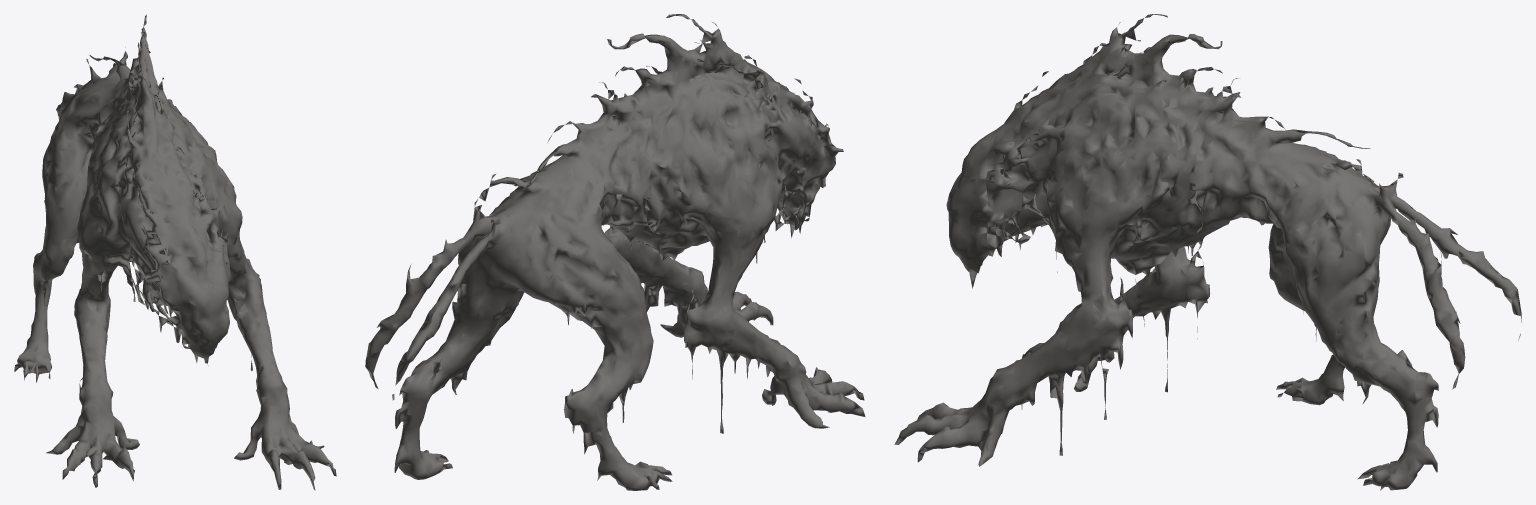
File: void_hound.glb
3 views of the same model, side by side, from view 1: azimuth 30°, elevation 25°; view 2: azimuth 150°, elevation 25°; view 3: azimuth 270°, elevation 25° (orthographic). The views are drawn at different scales.
Visible parts, largest first — view 1: reduced; view 2: reduced; view 3: reduced.
Part boxes in pixels (left/top/right/bottom): reduced: left=14, top=14, right=336, bottom=490; reduced: left=365, top=14, right=865, bottom=490; reduced: left=894, top=14, right=1521, bottom=490.
Size of the model in its own units: 1.03 by 1.36 by 1.9.
Materials: 1 (1 with a texture image).
